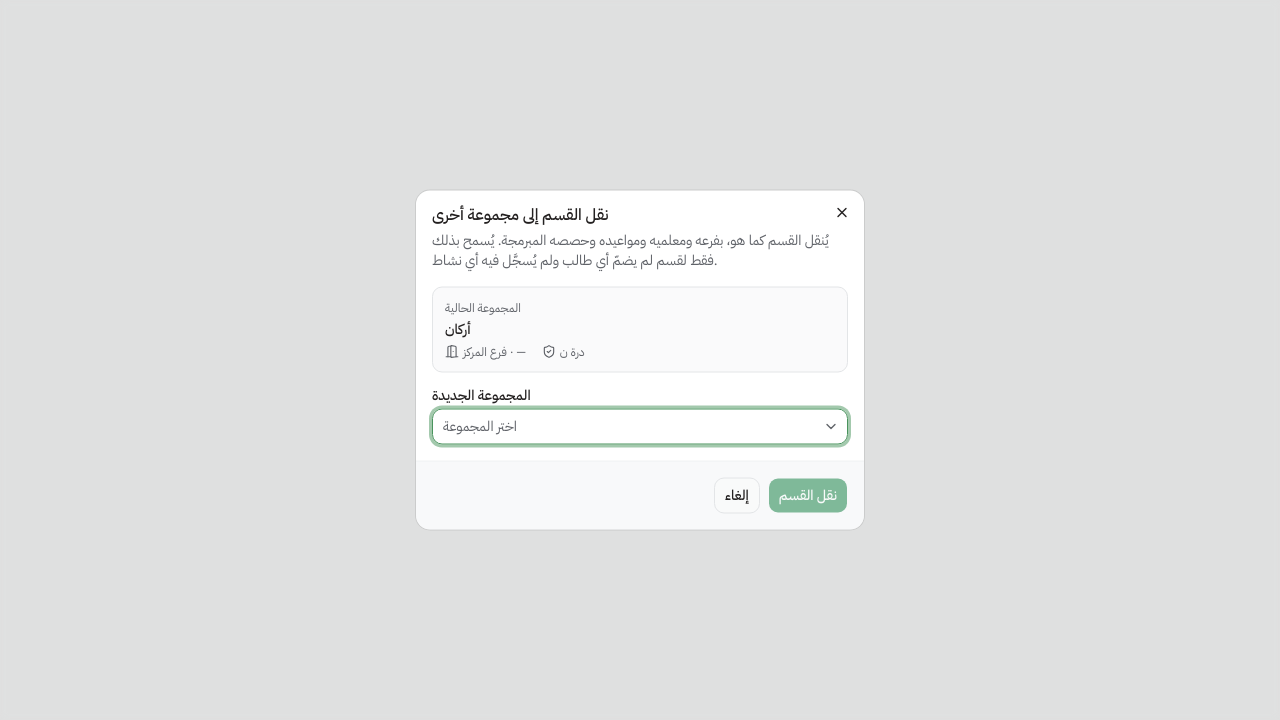
«نقل القسم إلى مجموعة أخرى» › a blocked class: every reason is listed and the move cannot be confirmed
Click the dropdown at (480, 426), box [432,408,848,444]
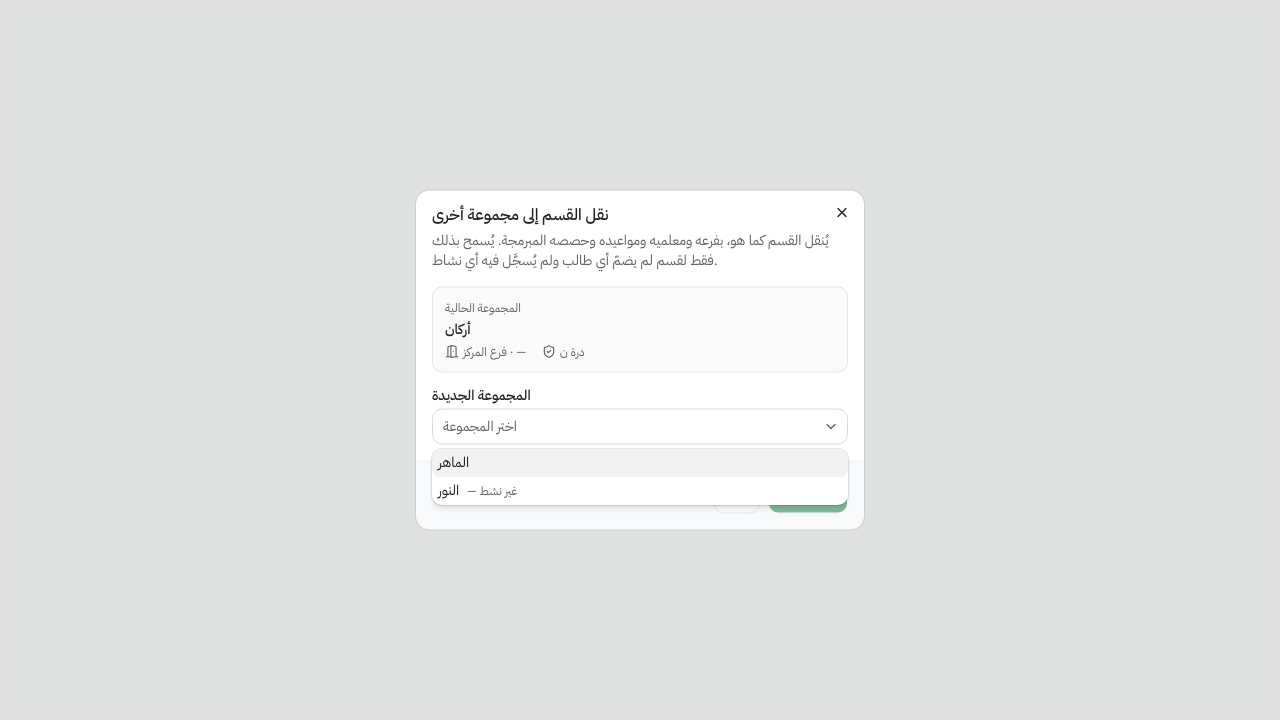
Click the option "الماهر" at (454, 462), box [432,449,848,477]
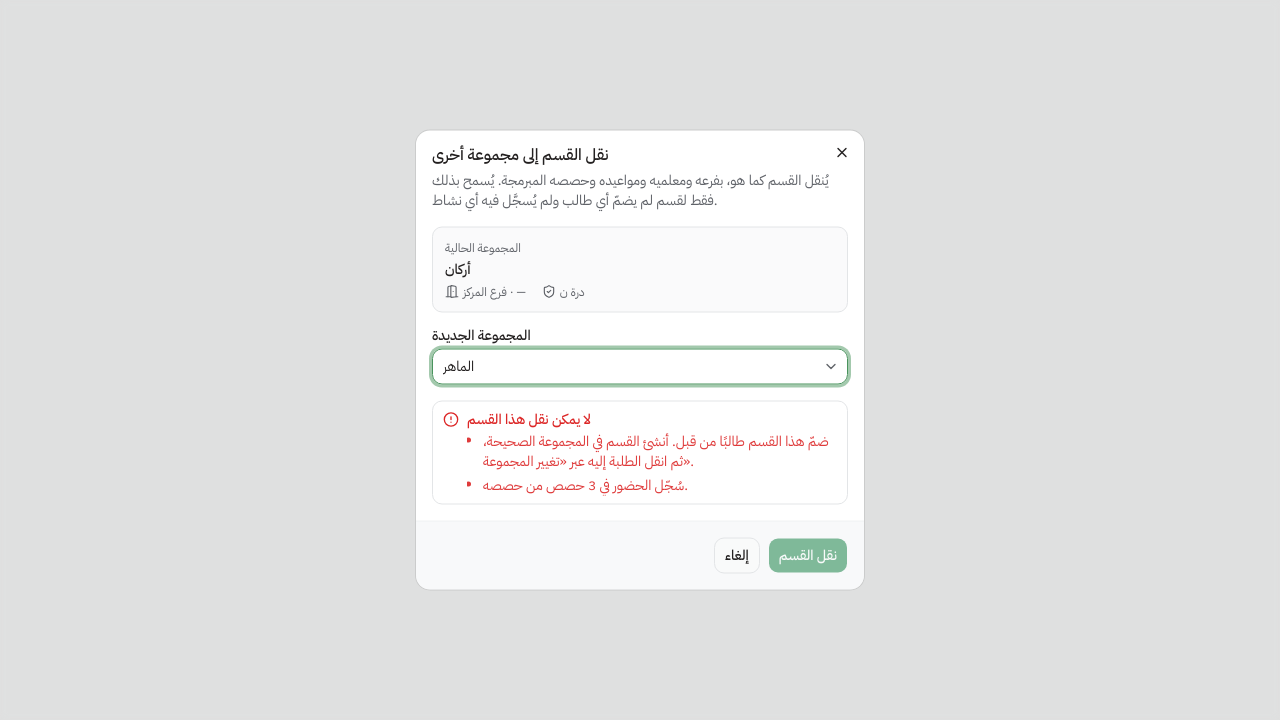
Expected: the button "نقل القسم" is disabled, [768,538,848,574]
Now the text "لا يمكن نقل هذا القسم" is shown, box [467,408,591,430]
Now the list items read "ضمّ هذا القسم طالبًا من قبل. أنشئ القسم في المجموعة الصحيحة، ثم انقل الطلبة إليه عبر «تغيير المجموعة».", "سُجّل الحضور في 3 حصص من حصصه.", in this order, box [483,432,837,472]; [483,474,688,496]
